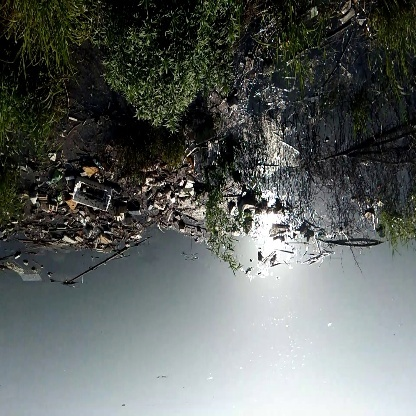branch: (65, 248, 130, 286)
plastic-garbage: (69, 177, 115, 217)
